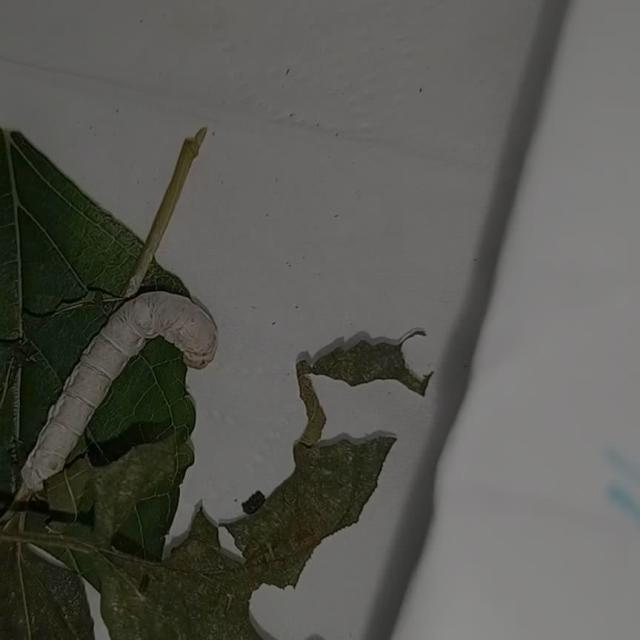Healthy: (6, 223, 263, 536)
